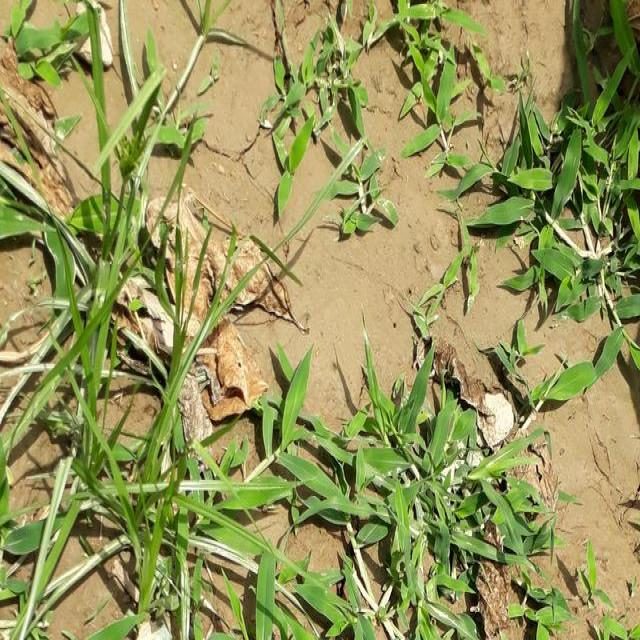weed: (6, 7, 254, 640), (267, 367, 640, 640), (377, 10, 640, 323), (270, 26, 379, 225), (490, 327, 540, 377), (599, 318, 640, 367)
